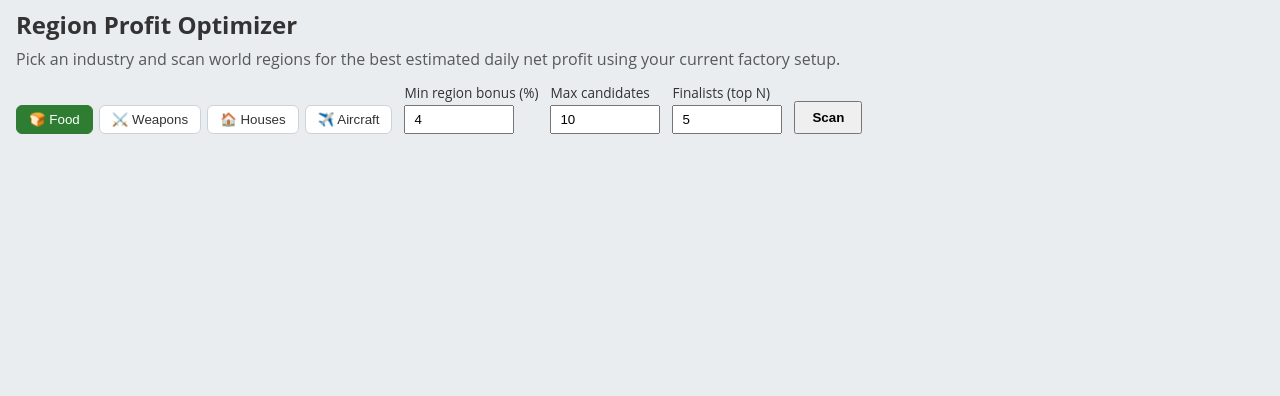
Test: OptimizerView › scans and renders a results table sorted by net descending
Click the button with test id "optimizer-scan": click(828, 118) [794,101,862,134]
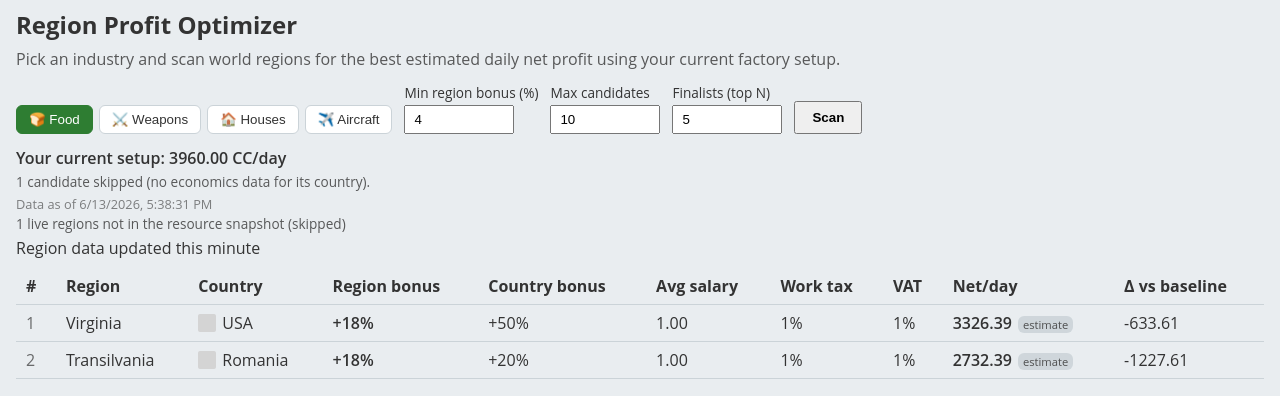
Check: the table with test id "optimizer-table" is shown, box [16,268,1264,379]
